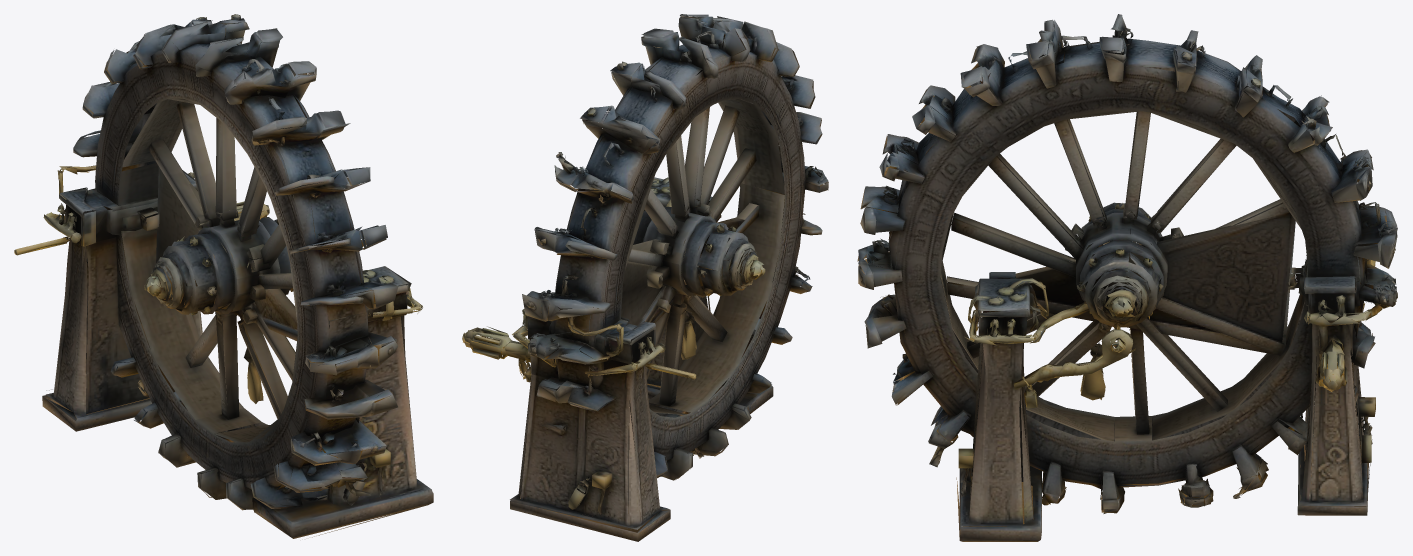
Rendered from ch6_great_hydraulic_wheel_LOD1.glb.
3 views of the same model, side by side, from view 1: azimuth 30°, elevation 25°; view 2: azimuth 150°, elevation 25°; view 3: azimuth 270°, elevation 25° (orthographic). The views are drawn at different scales.
Visible parts, largest first — view 1: tripo_node_3a9f80ba-cd3d-47f6-89a2-44492e5448fd; view 2: tripo_node_3a9f80ba-cd3d-47f6-89a2-44492e5448fd; view 3: tripo_node_3a9f80ba-cd3d-47f6-89a2-44492e5448fd.
Part boxes in pixels (left/top/right/bottom): tripo_node_3a9f80ba-cd3d-47f6-89a2-44492e5448fd: left=14, top=14, right=433, bottom=538; tripo_node_3a9f80ba-cd3d-47f6-89a2-44492e5448fd: left=462, top=14, right=828, bottom=541; tripo_node_3a9f80ba-cd3d-47f6-89a2-44492e5448fd: left=857, top=14, right=1397, bottom=541.
Size of the model in its own units: 0.5559 by 0.959 by 1.
Materials: 1 (1 with a texture image).
